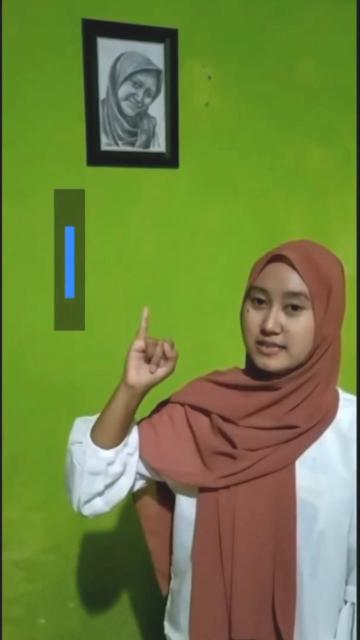I: (124, 302, 182, 392)
